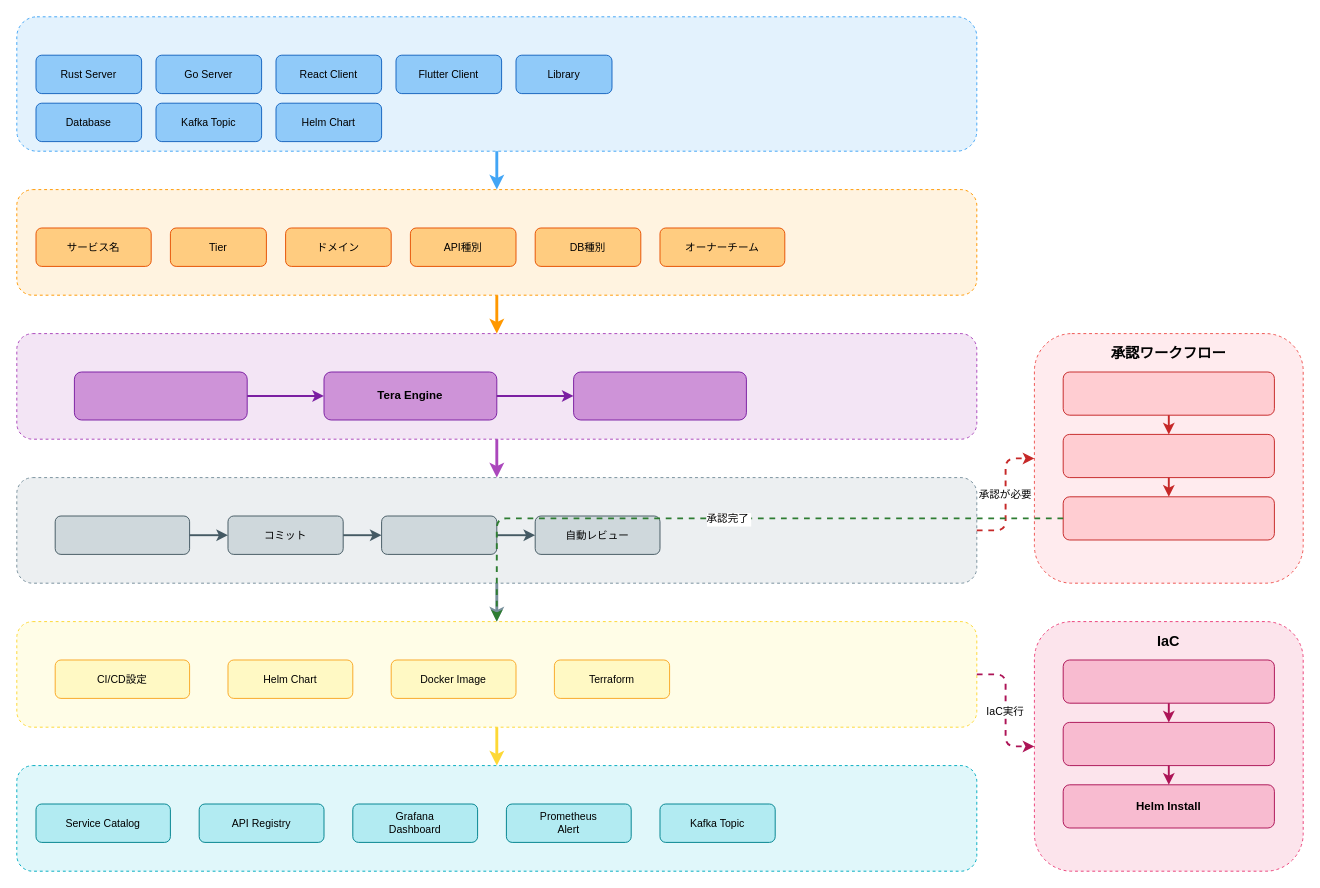
This 1320x888 diagram has some shape labels left out. Each missing label, with the box of its shape:
50+ Templates: (573, 371, 746, 420)
Crossplane Claim: (1062, 659, 1274, 703)
k1s0 CLI Core: (73, 371, 247, 420)
PR作成: (381, 515, 497, 554)
Step 1: テンプレート選択: (16, 16, 977, 151)
Step 2: パラメータ入力: (16, 189, 977, 295)
Step 3: コード生成: (16, 333, 977, 439)
Step 4: Git操作: (16, 477, 977, 583)
Step 5: 自動セットアップ: (16, 621, 977, 727)
Step 6: 自動登録: (16, 765, 977, 871)
Terraform Apply: (1062, 721, 1274, 766)
インフラ承認: (1062, 496, 1274, 540)
コードレビュー: (1062, 371, 1274, 415)
セキュリティレビュー: (1062, 433, 1274, 478)
ブランチ作成: (54, 515, 190, 554)
